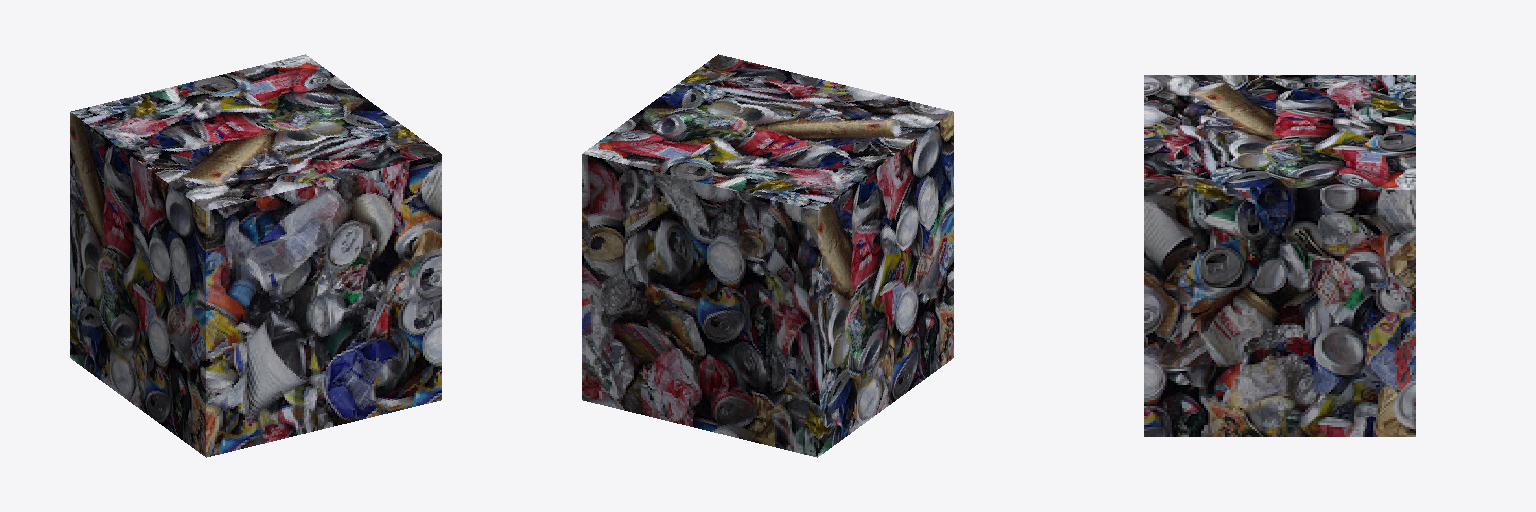
The picture shows the model from 3 angles: view 1: azimuth 30°, elevation 25°; view 2: azimuth 150°, elevation 25°; view 3: azimuth 270°, elevation 25°; orthographic projection.
Parts seen in each view (by area): view 1: Cube; view 2: Cube; view 3: Cube.
Boxes of the visible parts, x1=… form: Cube: x1=70, y1=54, x2=441, y2=457; Cube: x1=582, y1=54, x2=953, y2=457; Cube: x1=1144, y1=75, x2=1415, y2=436.
Size of the model in its own units: 2 by 2 by 2.
1 materials, 1 textured.